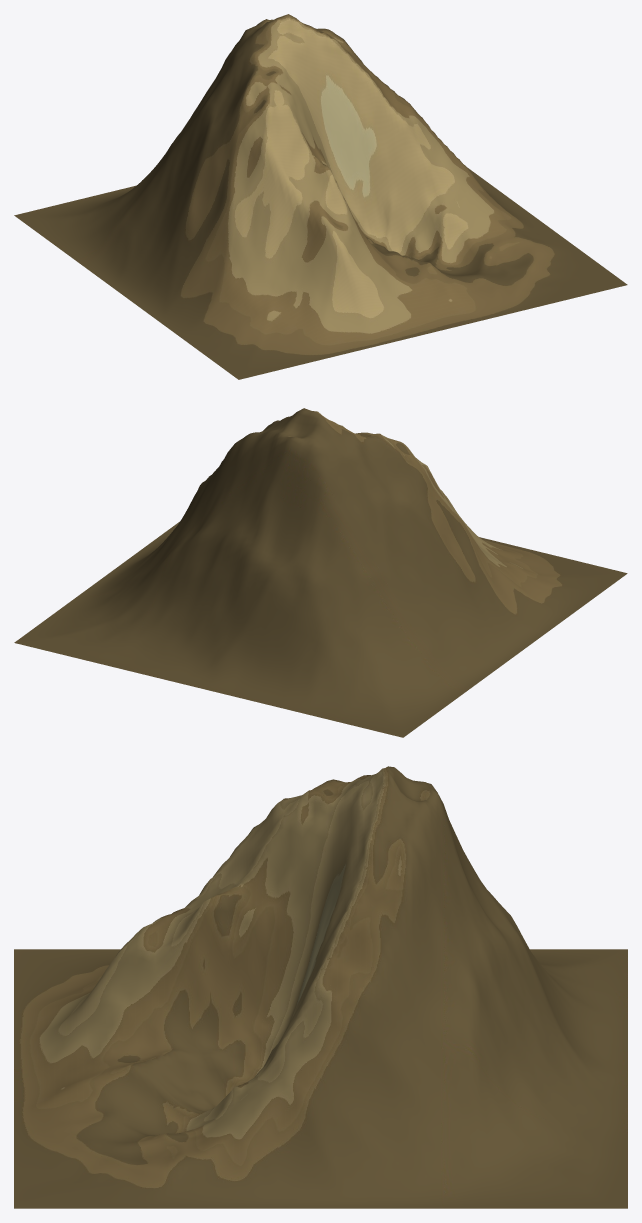
3 views of the same model, one above another, from view 1: azimuth 30°, elevation 25°; view 2: azimuth 150°, elevation 25°; view 3: azimuth 270°, elevation 25° (orthographic). The views are drawn at different scales.
Parts seen in each view (by area): view 1: Landscape.1; view 2: Landscape.1; view 3: Landscape.1.
Boxes of the visible parts, x1,y1,x2,y2 form: Landscape.1: (14,14,627,379); Landscape.1: (14,408,627,737); Landscape.1: (14,766,627,1208).
Bounding box in the file's own units: 1000 × 540 × 1000.
Materials: 1 (1 with a texture image).
